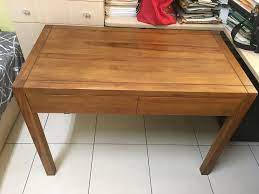desk: (10, 13, 256, 182)
